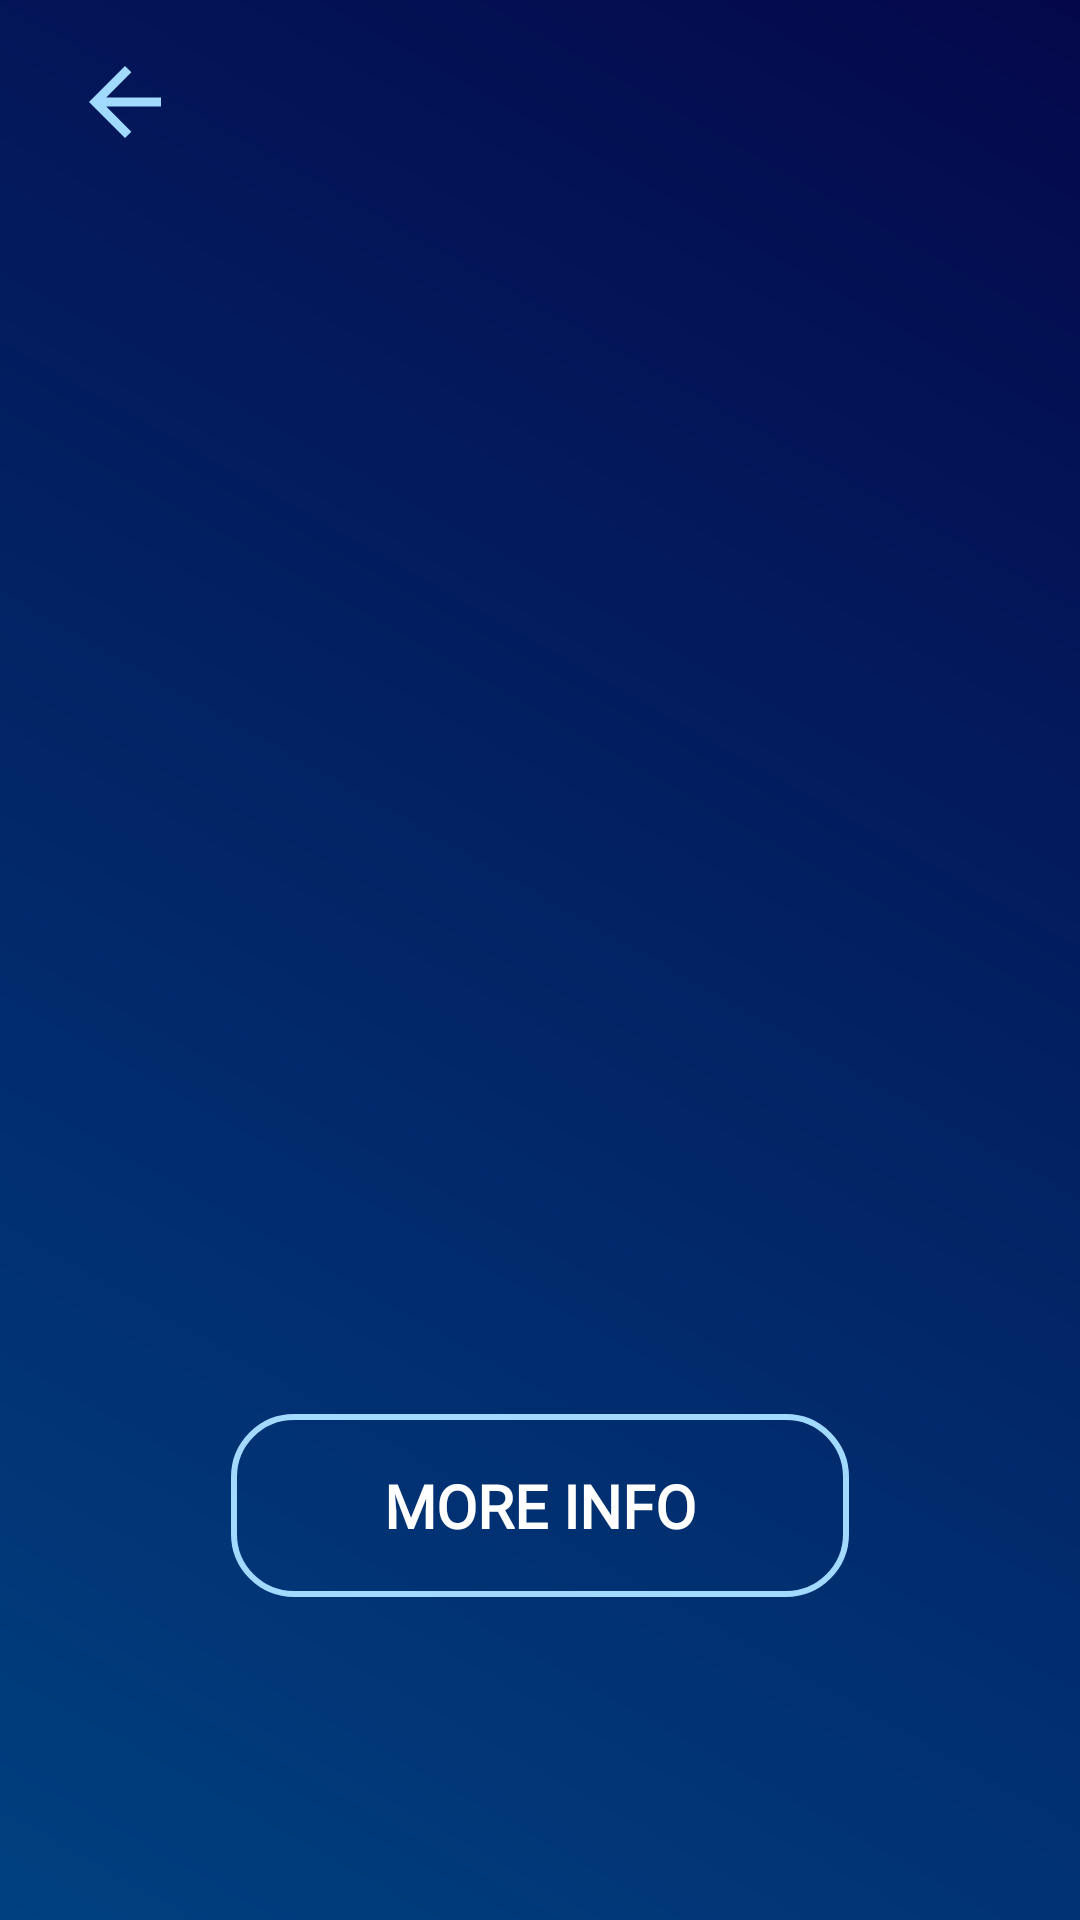

Icons on this 1080 × 1920 Android screen, each with its box as BBox(x1, y1, x2, y2):
arrow back: BBox(89, 66, 161, 138)
